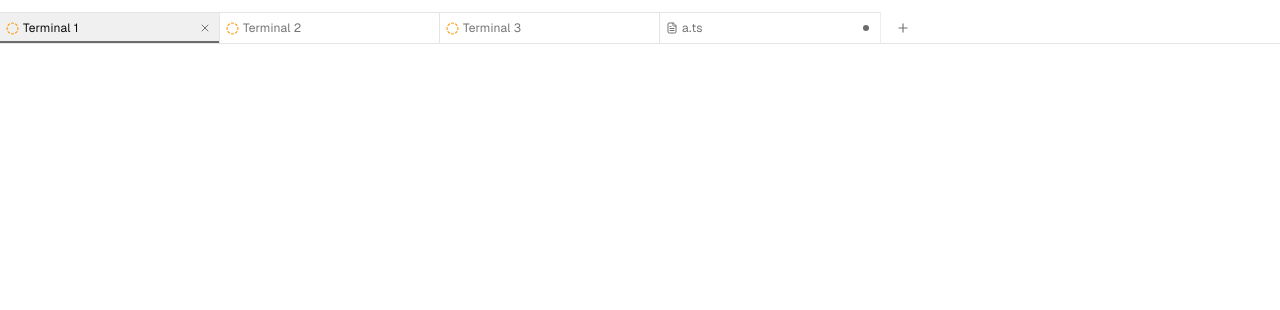
Test case: TabBar editor rename (#335) › hides Rename for a dirty tab (drafts are keyed by path)
The width and height of the screenshot is (1280, 310).
Right-click the tab "a.ts": x=770, y=28 left=660, top=12, right=880, bottom=43
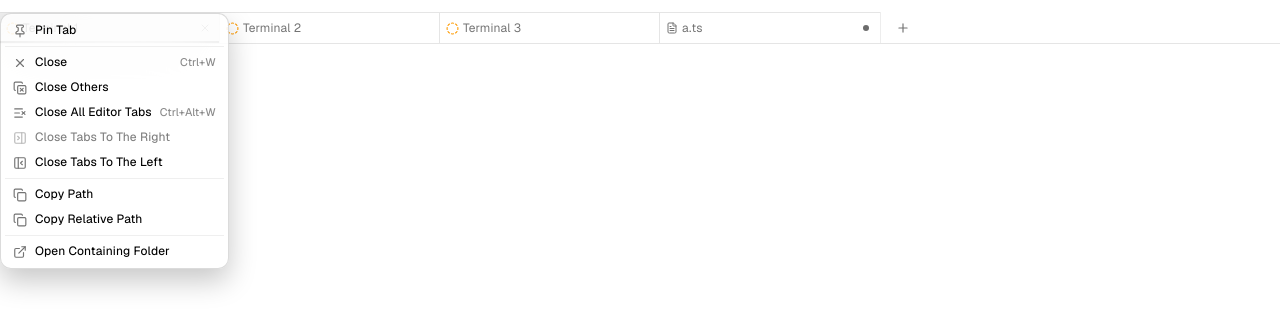
expect the menu item "Copy Path" is shown: met, box left=13, top=186, right=94, bottom=202
